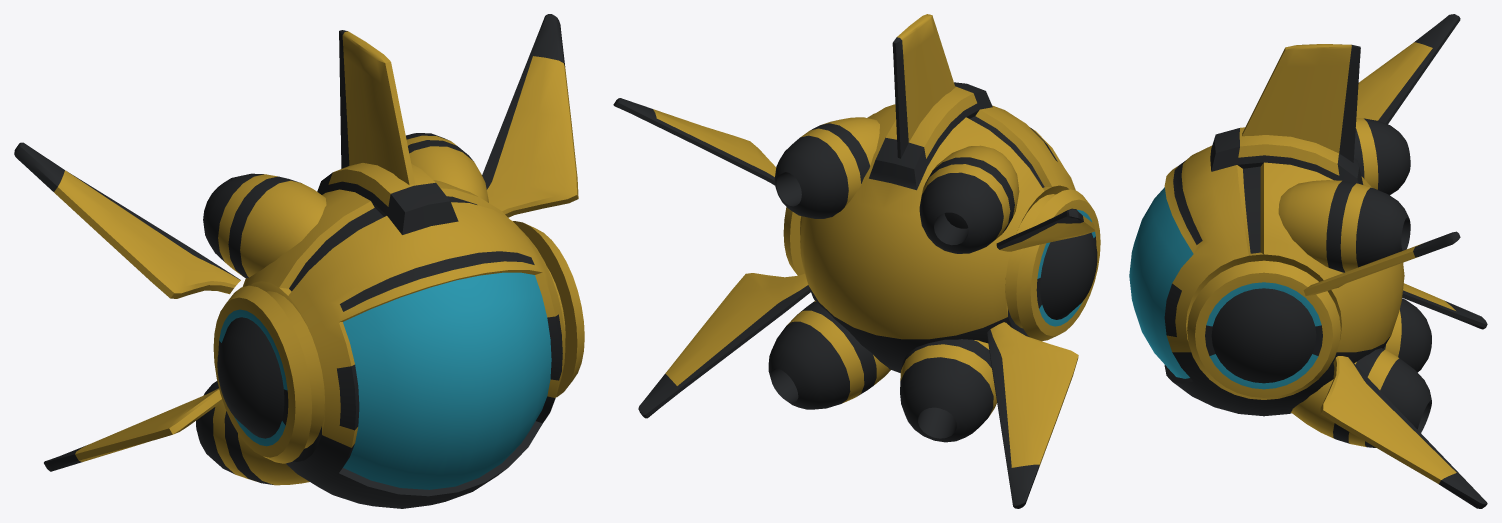
Rendered from colony_pod.glb.
3 views of the same model, side by side, from view 1: azimuth 30°, elevation 25°; view 2: azimuth 150°, elevation 25°; view 3: azimuth 270°, elevation 25° (orthographic). The views are drawn at different scales.
Visible parts, largest first — view 1: Spaceship_BarbaraTheBee; view 2: Spaceship_BarbaraTheBee; view 3: Spaceship_BarbaraTheBee.
Part boxes in pixels (<box>): Spaceship_BarbaraTheBee: <box>14,14,584,508</box>; Spaceship_BarbaraTheBee: <box>613,14,1100,508</box>; Spaceship_BarbaraTheBee: <box>1129,14,1487,508</box>.
Size of the model in its own units: 7.34 by 5.7 by 4.96.
Materials: 1 (1 with a texture image).
